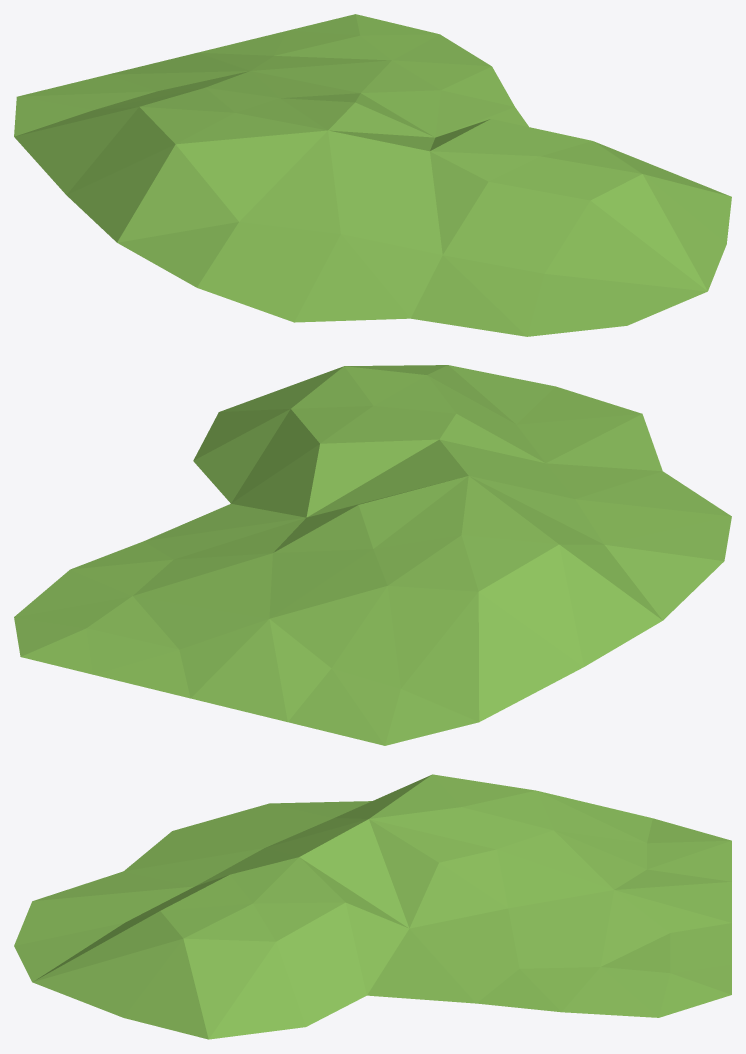
File: MT_Mountain_S_c_04_LOD.fbx
3 views of the same model, one above another, from view 1: azimuth 30°, elevation 25°; view 2: azimuth 150°, elevation 25°; view 3: azimuth 270°, elevation 25° (orthographic). The views are drawn at different scales.
Visible parts, largest first — view 1: MT_Mountain_S_c_04_LOD0; view 2: MT_Mountain_S_c_04_LOD0; view 3: MT_Mountain_S_c_04_LOD0.
Part boxes in pixels (x1=…): MT_Mountain_S_c_04_LOD0: x1=14, y1=14, x2=731, y2=336; MT_Mountain_S_c_04_LOD0: x1=14, y1=365, x2=731, y2=745; MT_Mountain_S_c_04_LOD0: x1=14, y1=774, x2=731, y2=1039.
Size of what is drawn, in the model's own units: 1866 by 287 by 2420.
